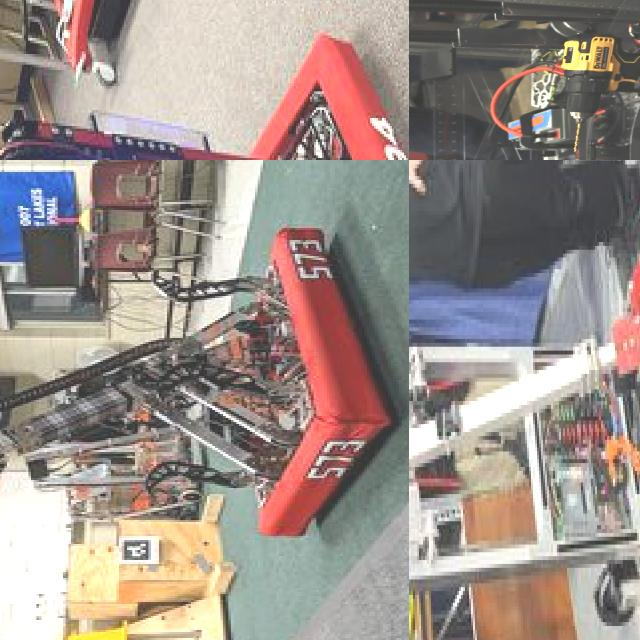FRC-Robots: (0, 195, 401, 561), (409, 160, 640, 640), (0, 8, 409, 160), (409, 0, 640, 160)
